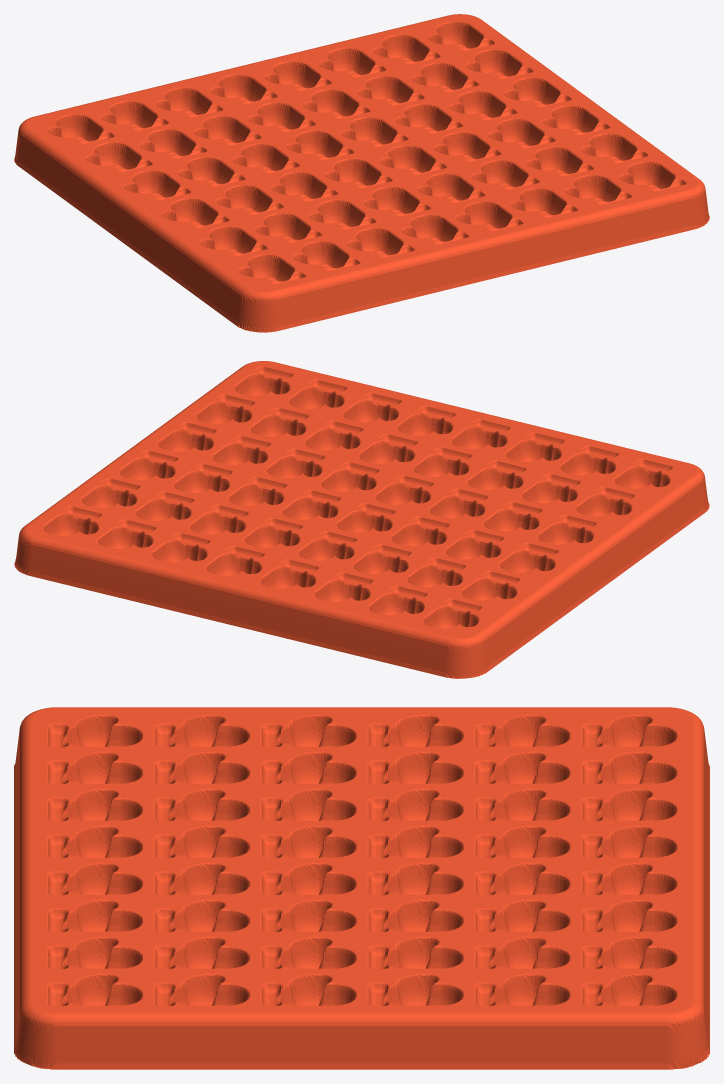
Rendered from mold.glb.
3 renders of one model, top to bottom at view 1: azimuth 30°, elevation 25°; view 2: azimuth 150°, elevation 25°; view 3: azimuth 270°, elevation 25°, orthographic. The views are drawn at different scales.
Visible parts, largest first — view 1: geometry_0; view 2: geometry_0; view 3: geometry_0.
Part boxes in pixels (x1=…): geometry_0: x1=14, y1=14, x2=709, y2=332; geometry_0: x1=14, y1=361, x2=709, y2=678; geometry_0: x1=14, y1=707, x2=709, y2=1069.
Bounding box in the file's own units: 0.1566 × 0.0114 × 0.1443.
